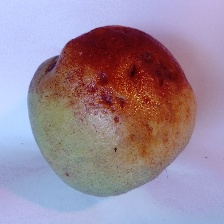guava: (62, 20, 204, 210)
